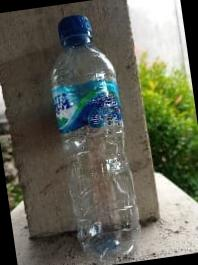Plastik: (51, 15, 140, 260)
